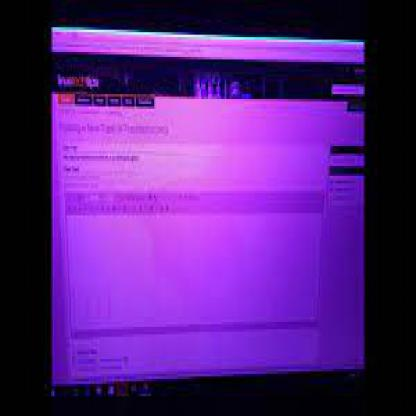fade: (54, 30, 365, 374)
